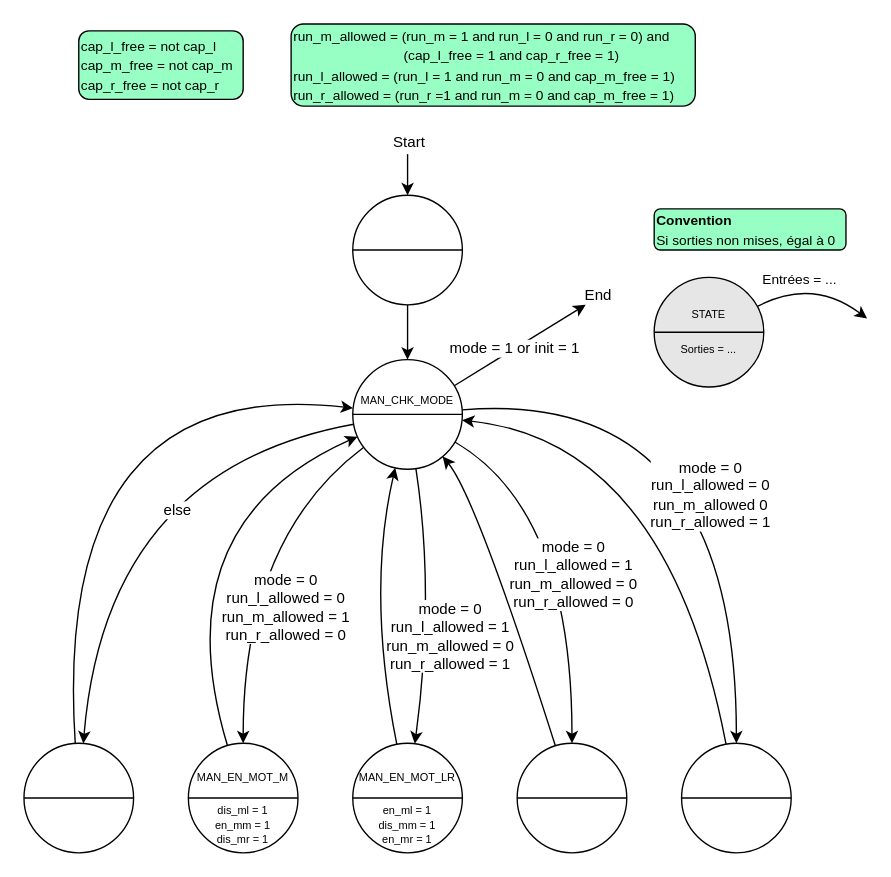
The diagram is 891 pixels wide and 877 high, and some of its shapes have lost their labels. Each missing label, with the box of its shape:
MAN_DIS_MOT dis_ml = 1 dis_mm = 1 dis_mr = 1: (23, 742, 134, 853)
MAN_EN_MOT_L en_ml = 1 dis_mm = 1 dis_mr = 1: (516, 742, 627, 853)
MAN_EN_MOT_R dis_ml = 1 dis_mm = 1 en_mr = 1: (680, 742, 791, 853)
MAN_SP_DIR dir_a = 1 init_sp = 1: (351, 194, 462, 305)
